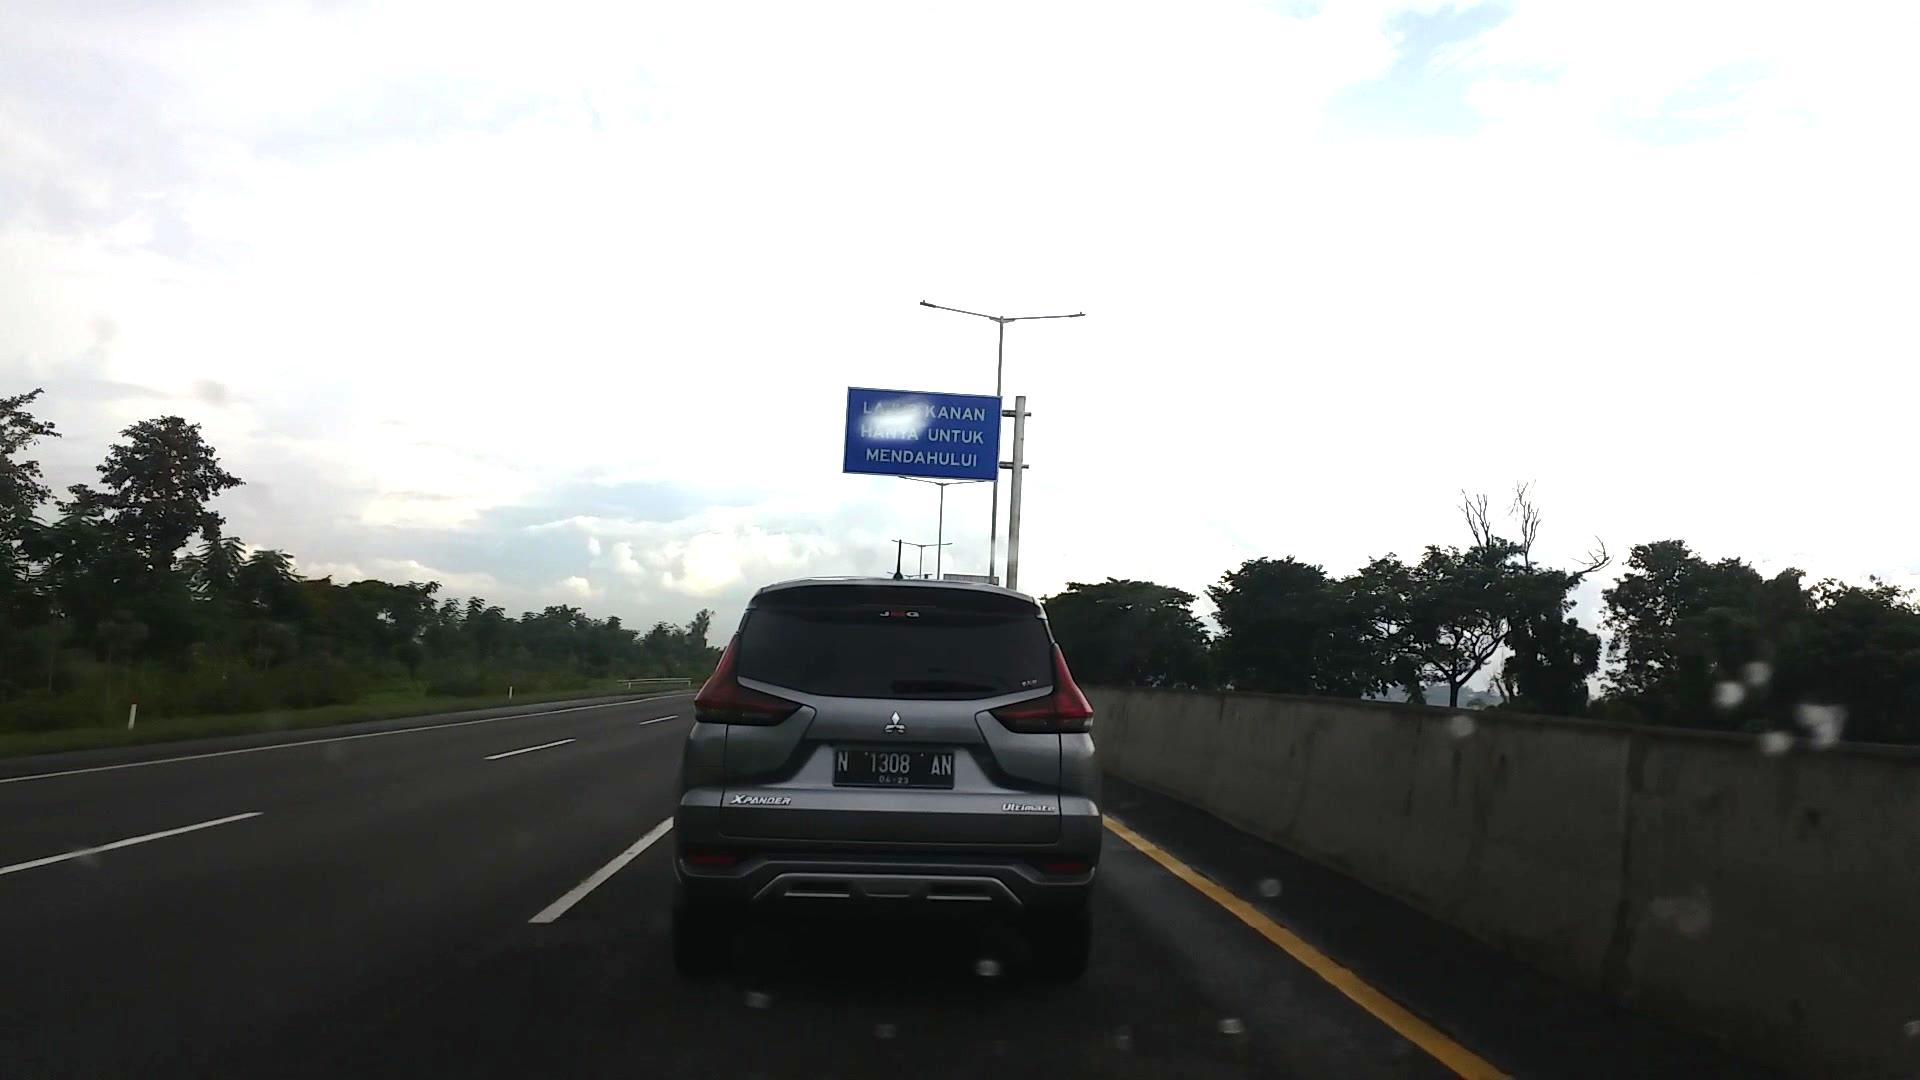plate_positive: (833, 746, 953, 790)
